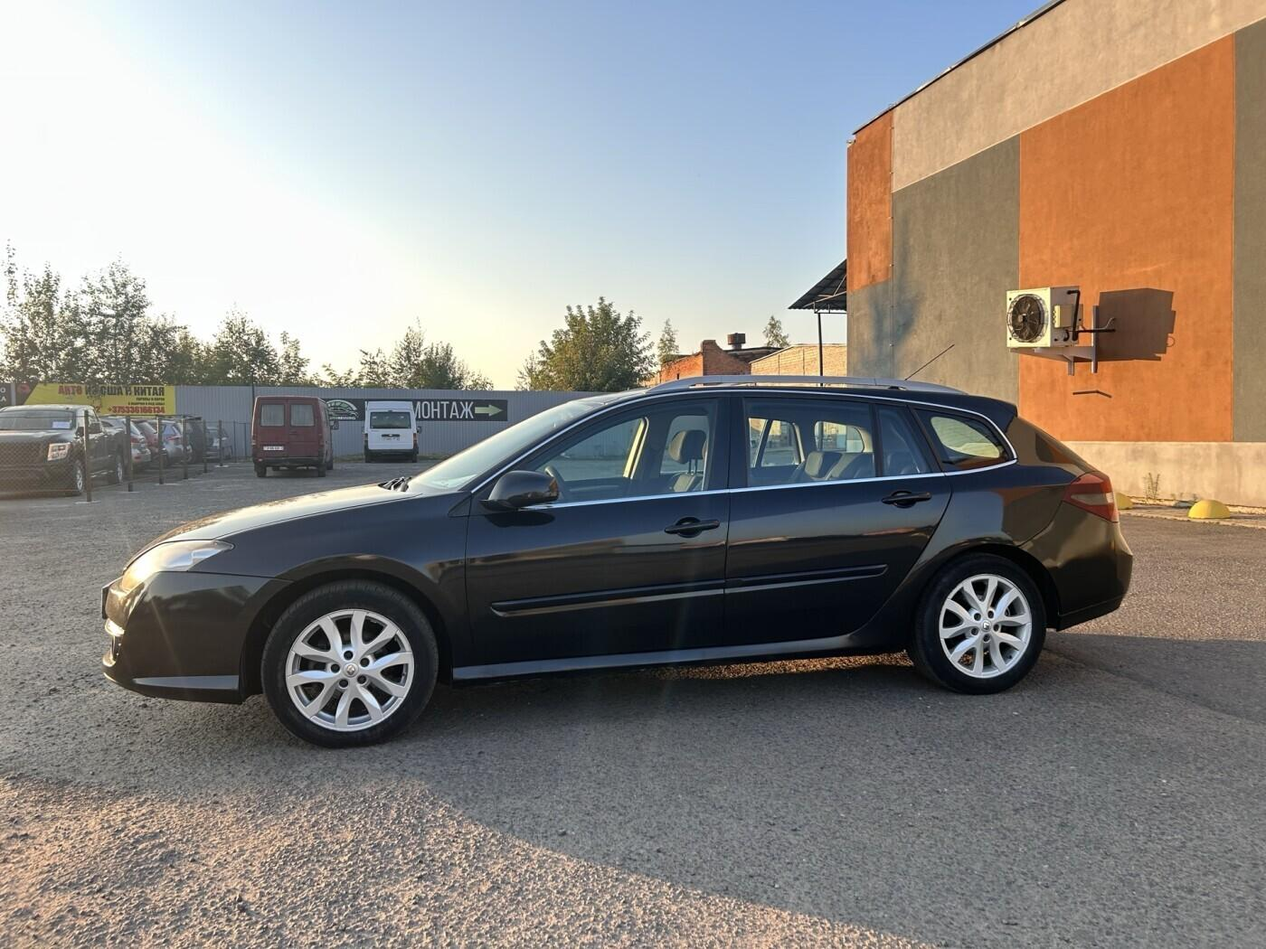Laguna_2007-2011: (100, 377, 1132, 747)
